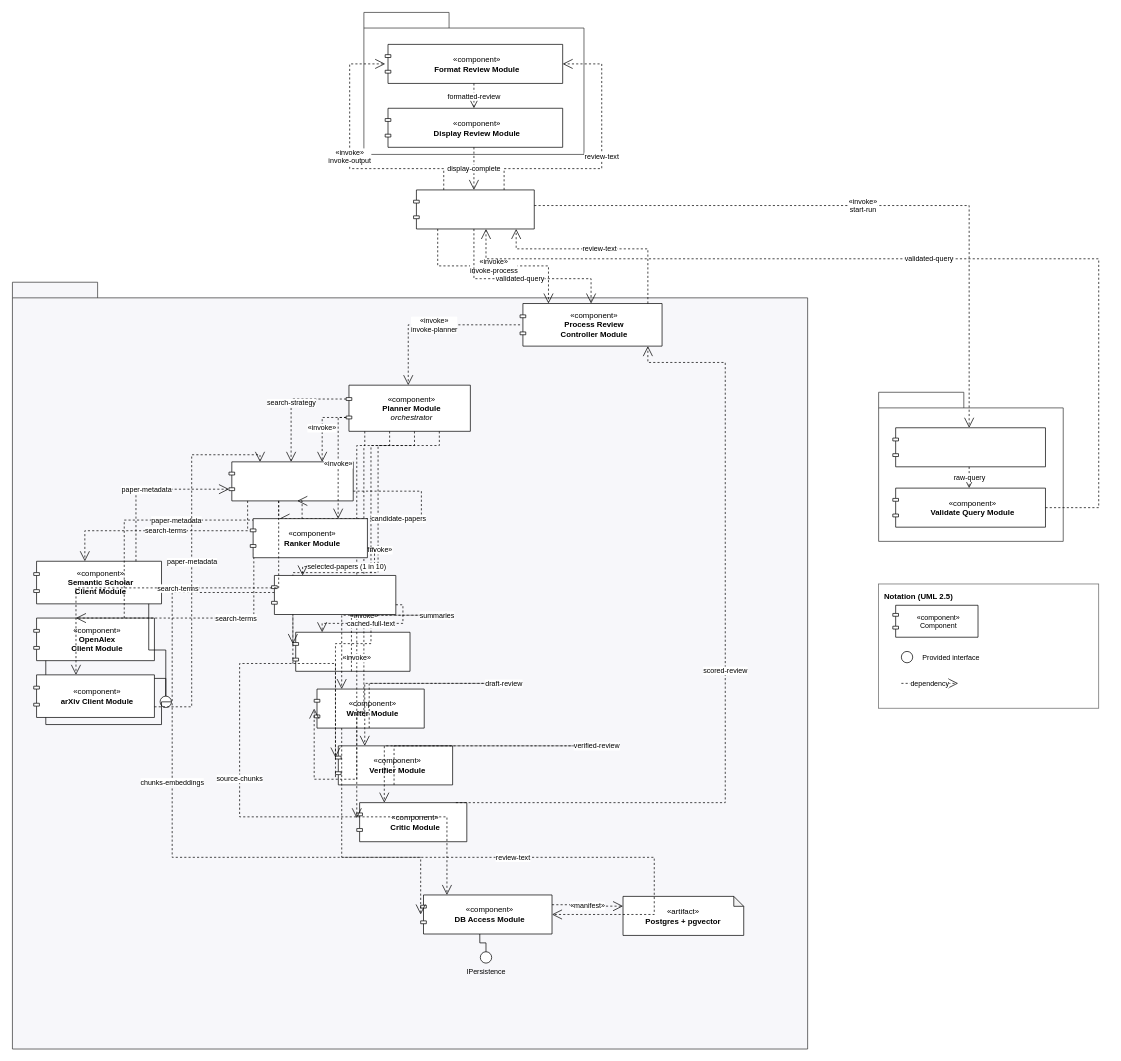
Image size: 1121x1061. Some labels were removed from this diagram. The shapes that lost their labels are listed below. From the top down, each one's box as (x1, y1, x2, y2) in pixels, then its label:
(363, 12, 584, 154): «subsystem» Display Module
(413, 189, 534, 229): «component» Main Controller
(892, 427, 1045, 467): «component» Get Query Module
(878, 392, 1063, 541): «subsystem» Query Intake Module
(228, 461, 353, 501): «component» Retriever Module
(271, 575, 396, 615): «component» Paper Cache Module
(292, 632, 410, 671): «component» Extractor Module
(12, 282, 808, 1049): «subsystem» Central branch
(159, 695, 171, 708): ISearchProvider
